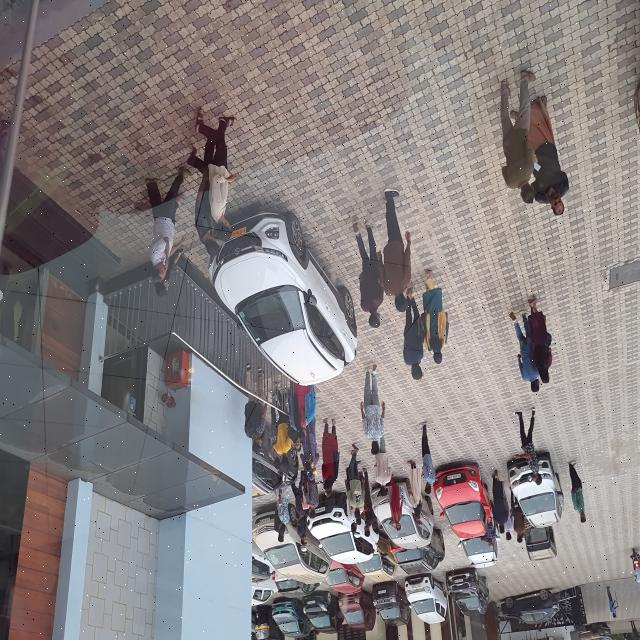humans: (191, 105, 243, 243), (497, 62, 541, 210), (140, 164, 186, 284), (372, 185, 414, 316), (341, 214, 388, 330), (181, 140, 223, 261), (533, 92, 571, 222), (415, 264, 450, 365), (501, 308, 540, 395), (396, 282, 426, 382), (508, 404, 542, 489), (522, 292, 553, 385), (356, 364, 387, 456), (241, 361, 269, 454), (266, 382, 292, 468), (342, 442, 366, 520), (413, 419, 436, 497), (562, 456, 588, 524), (158, 244, 188, 300), (288, 382, 316, 442), (488, 468, 510, 536), (320, 416, 339, 491), (266, 392, 282, 473), (372, 436, 392, 499), (404, 458, 424, 520), (300, 418, 319, 481), (507, 482, 525, 544), (359, 464, 373, 538), (290, 467, 307, 526), (386, 478, 404, 533), (269, 489, 286, 543), (274, 486, 290, 533), (603, 582, 619, 620), (284, 423, 304, 453), (304, 480, 318, 521), (504, 506, 519, 544), (480, 519, 499, 549), (299, 477, 311, 518), (342, 501, 357, 533), (296, 513, 310, 545), (316, 479, 333, 497), (357, 504, 365, 525)
